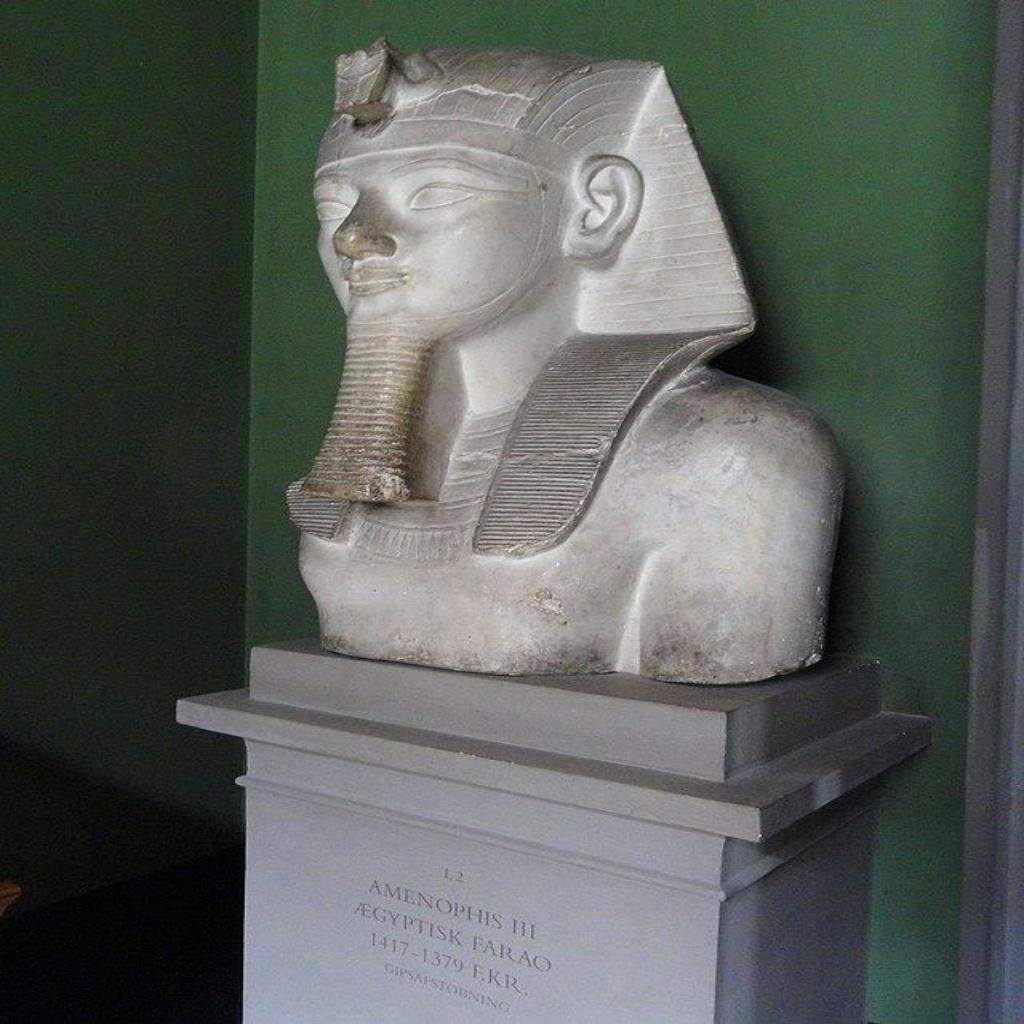Amenhotep III: (278, 44, 840, 686)
